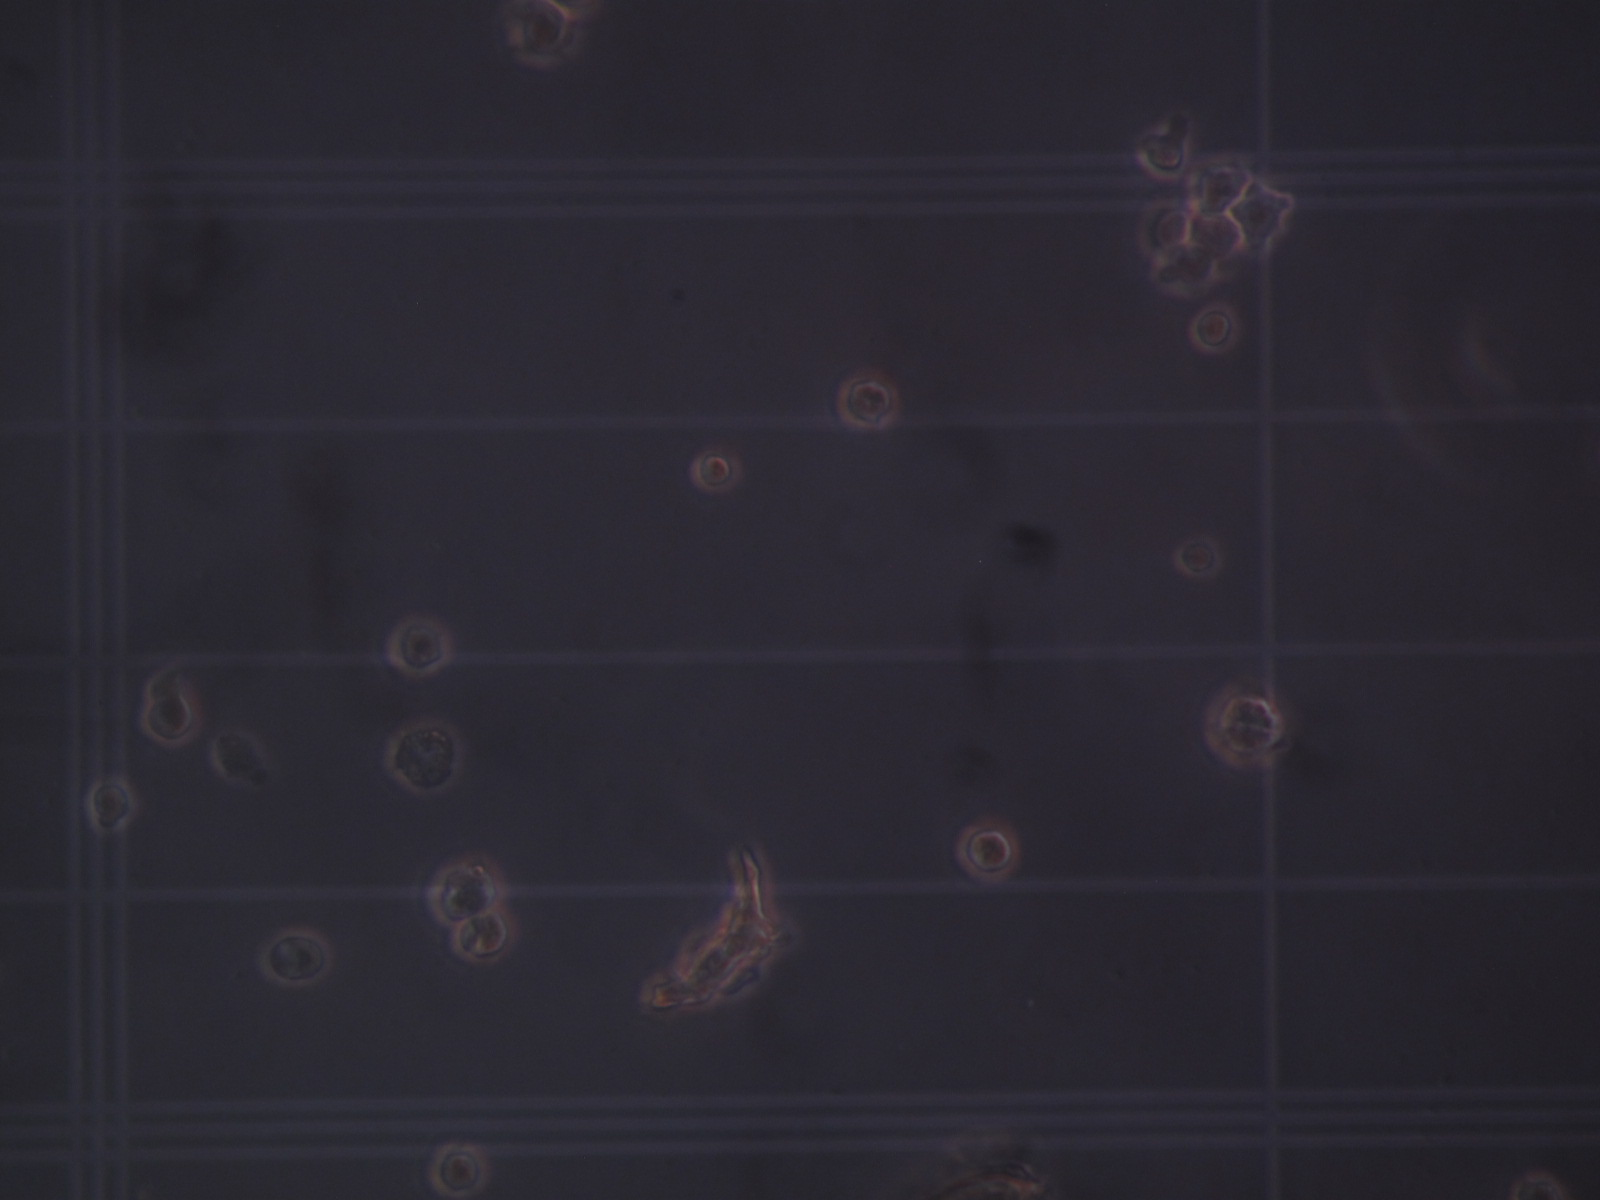hemo: (1199, 676, 1284, 768), (386, 717, 461, 793), (430, 858, 504, 924), (505, 1, 580, 64), (952, 816, 1020, 884), (261, 926, 336, 986), (386, 614, 452, 678), (834, 374, 901, 434), (1187, 155, 1251, 212), (140, 687, 199, 747), (452, 911, 517, 964), (427, 1143, 488, 1197), (1136, 198, 1193, 253), (689, 447, 745, 495), (1136, 129, 1186, 176), (1193, 303, 1240, 353), (88, 780, 135, 829), (1175, 533, 1222, 582)
